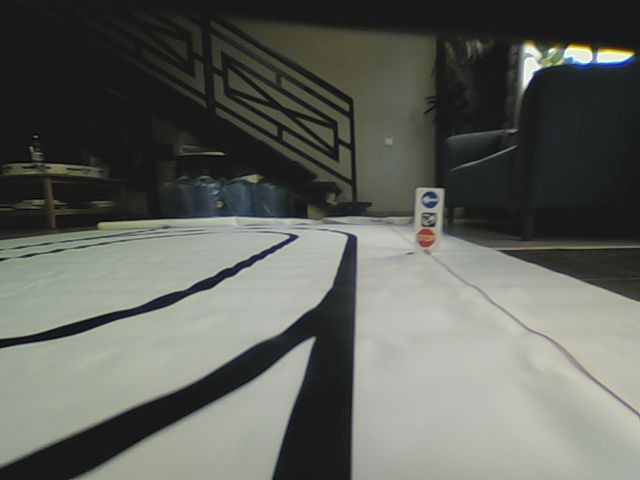Stop: (416, 227, 435, 248)
